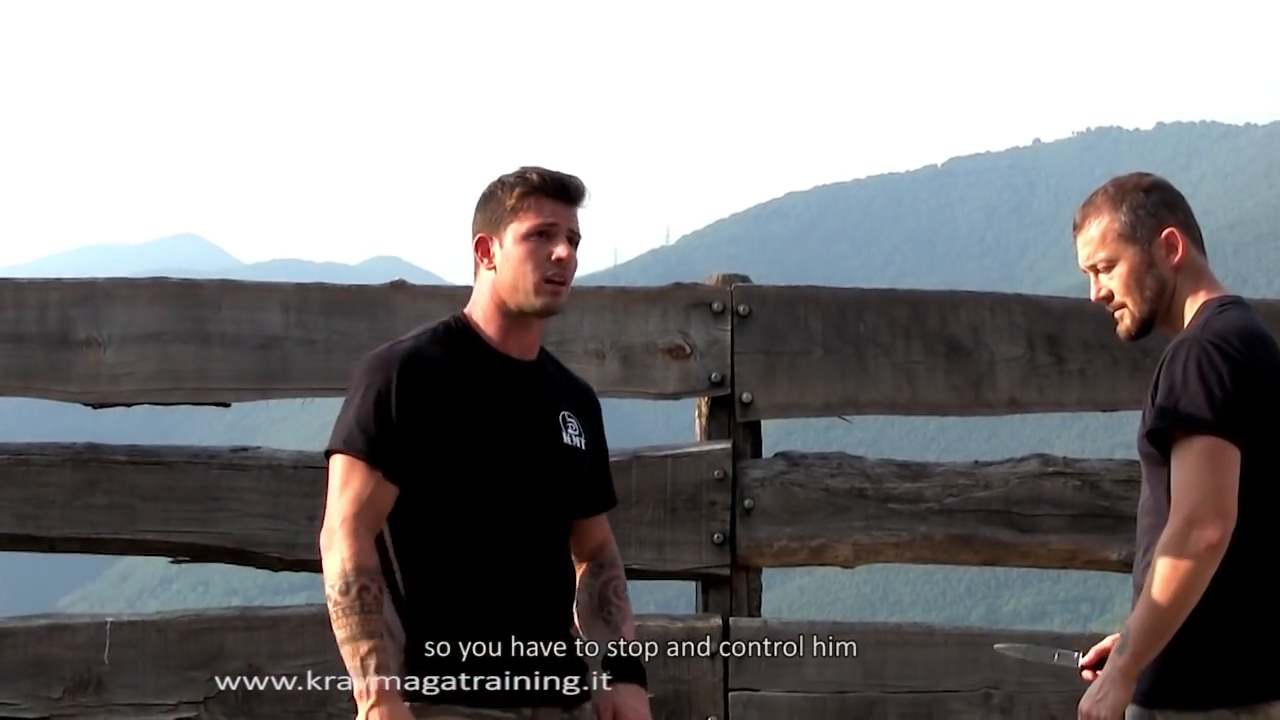knife: (980, 634, 1116, 687)
